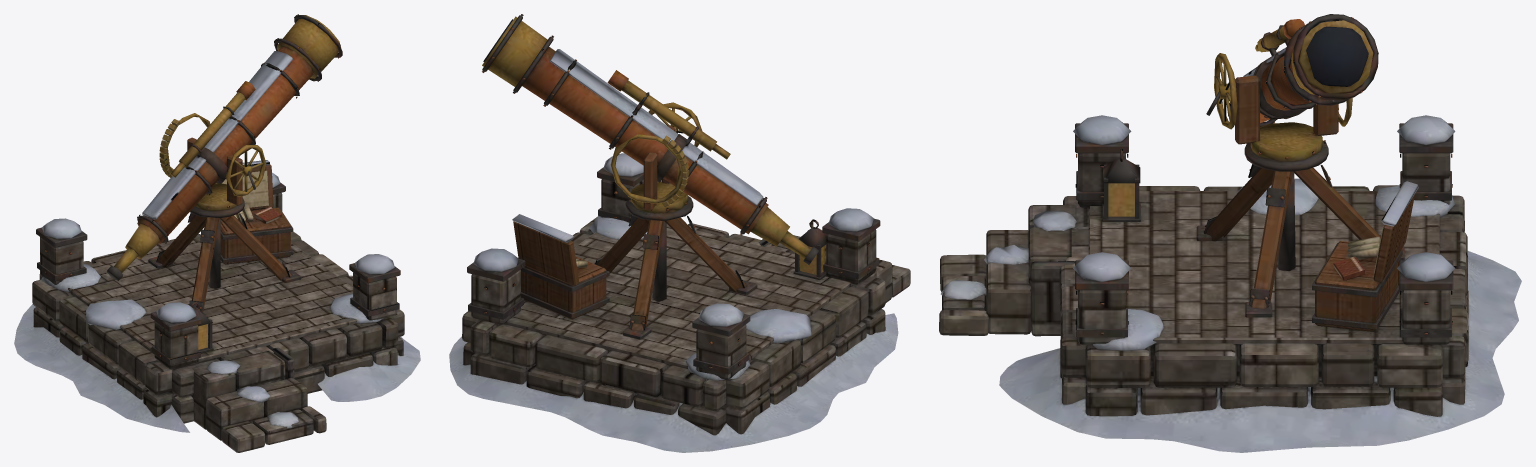
The model's file is telescope.glb.
3 views of the same model, side by side, from view 1: azimuth 30°, elevation 25°; view 2: azimuth 150°, elevation 25°; view 3: azimuth 270°, elevation 25° (orthographic). The views are drawn at different scales.
Parts seen in each view (by area): view 1: model; view 2: model; view 3: model.
Boxes of the visible parts, x1,y1,x2,y2 form: model: [14, 14, 420, 452]; model: [449, 14, 910, 452]; model: [939, 14, 1521, 452].
Bounding box in the file's own units: 3.53 × 2.99 × 3.89.
2 materials, 2 textured.
